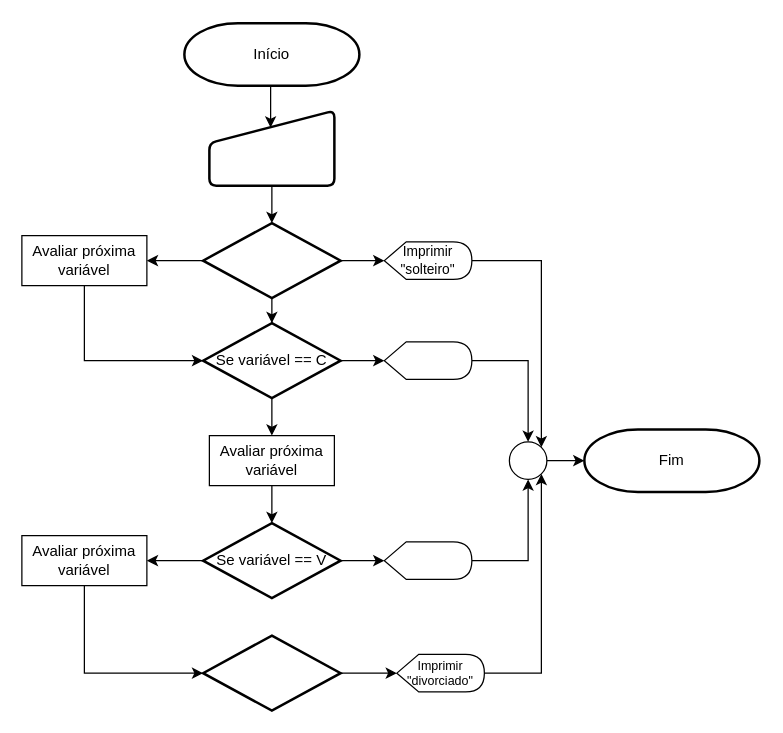
Image size: 783x733. Some labels were removed from this diagram. The box of each missing label's shape, as (x1, y1, x2, y2) in pixels:
Analisar variáveis S,C,V,D: (208, 109, 335, 186)
Imprimir "casado": (383, 341, 472, 379)
Imprimir "viúvo": (383, 541, 472, 579)
Se variável == D: (201, 634, 341, 711)
Se variável == S: (201, 221, 341, 299)
